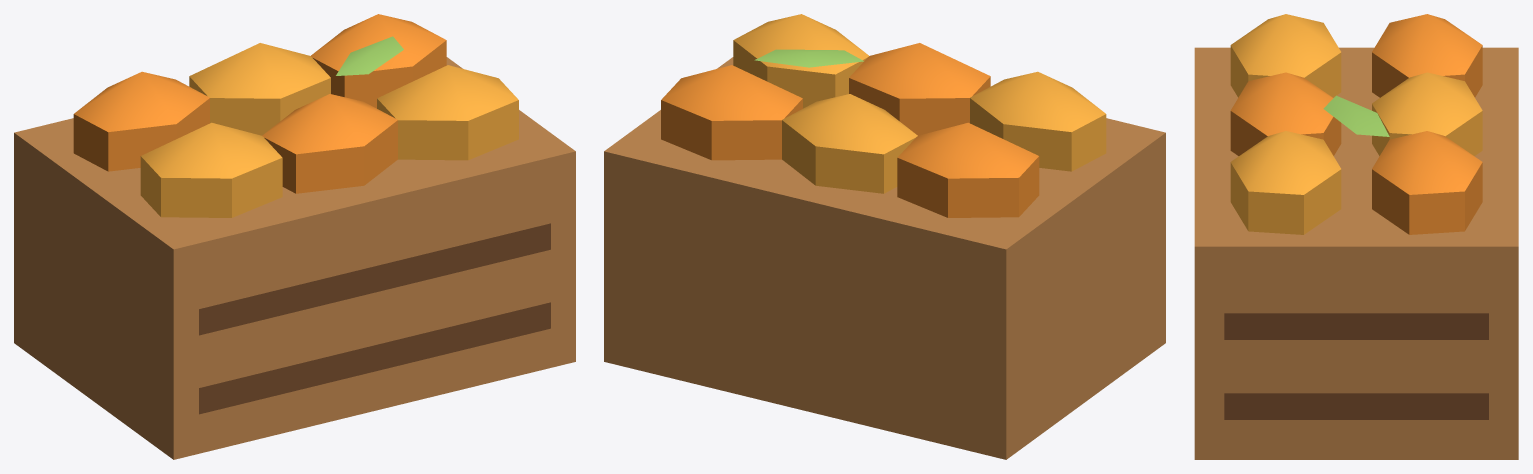
File: prop_mango_crate.glb
3 renders of one model, left to right at view 1: azimuth 30°, elevation 25°; view 2: azimuth 150°, elevation 25°; view 3: azimuth 270°, elevation 25°, orthographic.
Visible parts, largest first — view 1: prop_mango_crate; view 2: prop_mango_crate; view 3: prop_mango_crate.
Boxes of the visible parts, x1,y1,x2,y2 form: prop_mango_crate: [14, 14, 575, 459]; prop_mango_crate: [604, 14, 1165, 459]; prop_mango_crate: [1194, 14, 1518, 459].
Size of the model in its own units: 0.1601 by 0.108 by 0.1101.
Materials: 1 (1 with a texture image).
